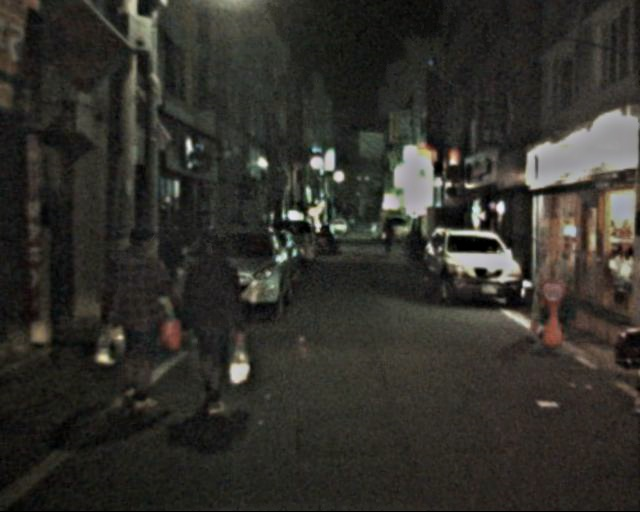person: (102, 226, 182, 413), (176, 228, 251, 420), (379, 216, 397, 255)
